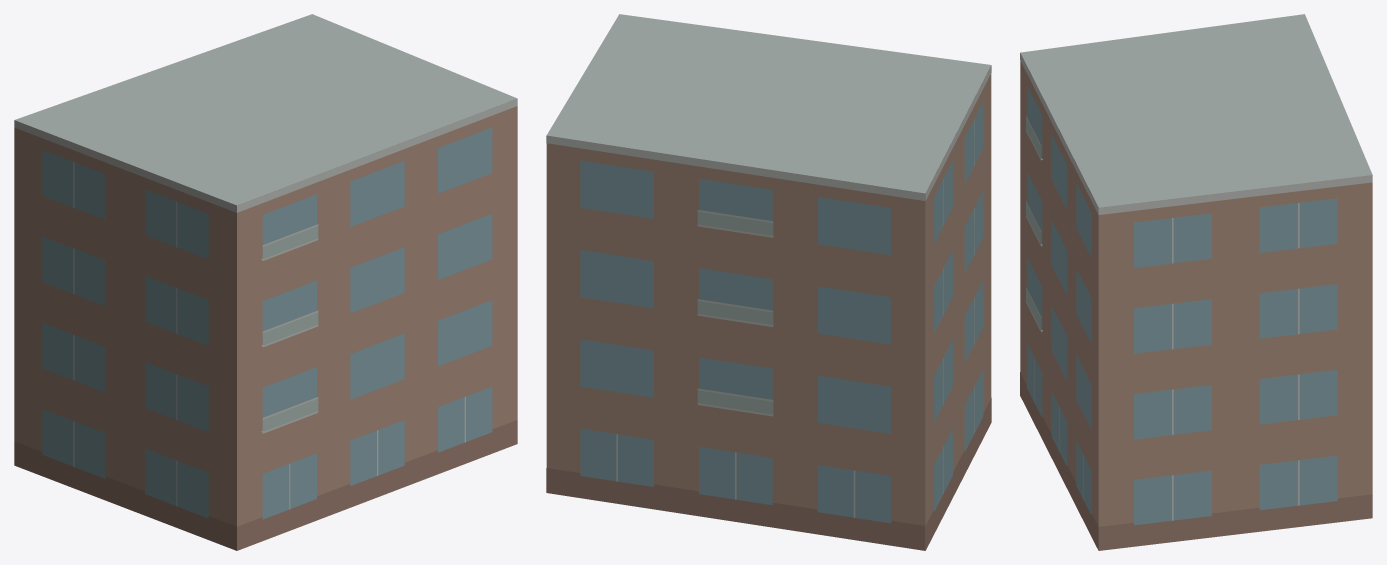
Rendered from survey-upis-32495428.glb.
3 views of the same model, side by side, from view 1: azimuth 30°, elevation 25°; view 2: azimuth 150°, elevation 25°; view 3: azimuth 270°, elevation 25° (orthographic). The views are drawn at different scales.
Visible parts, largest first — view 1: survey-upis-32495428.tmp; view 2: survey-upis-32495428.tmp; view 3: survey-upis-32495428.tmp.
Part boxes in pixels (x1=…): survey-upis-32495428.tmp: x1=14, y1=14, x2=517, y2=550; survey-upis-32495428.tmp: x1=546, y1=14, x2=991, y2=550; survey-upis-32495428.tmp: x1=1020, y1=14, x2=1372, y2=550.
Bounding box in the file's own units: 13.81 × 11.4 × 10.62.
